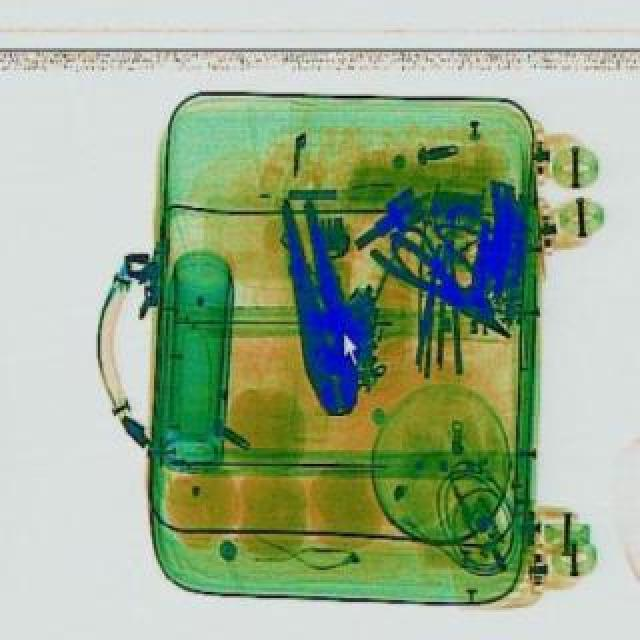wrench: (270, 192, 372, 416), (366, 222, 524, 350)
